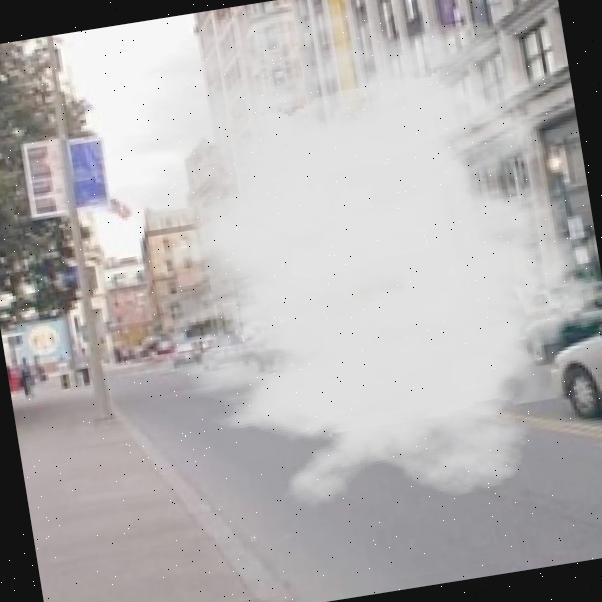smoke: (47, 0, 602, 550)
